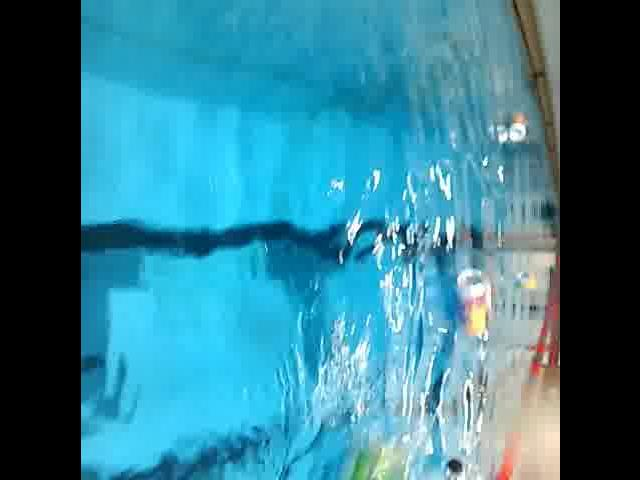Bottle: (437, 452, 485, 480)
Can: (318, 441, 416, 480), (450, 262, 496, 342), (502, 110, 530, 150), (513, 267, 541, 293)
